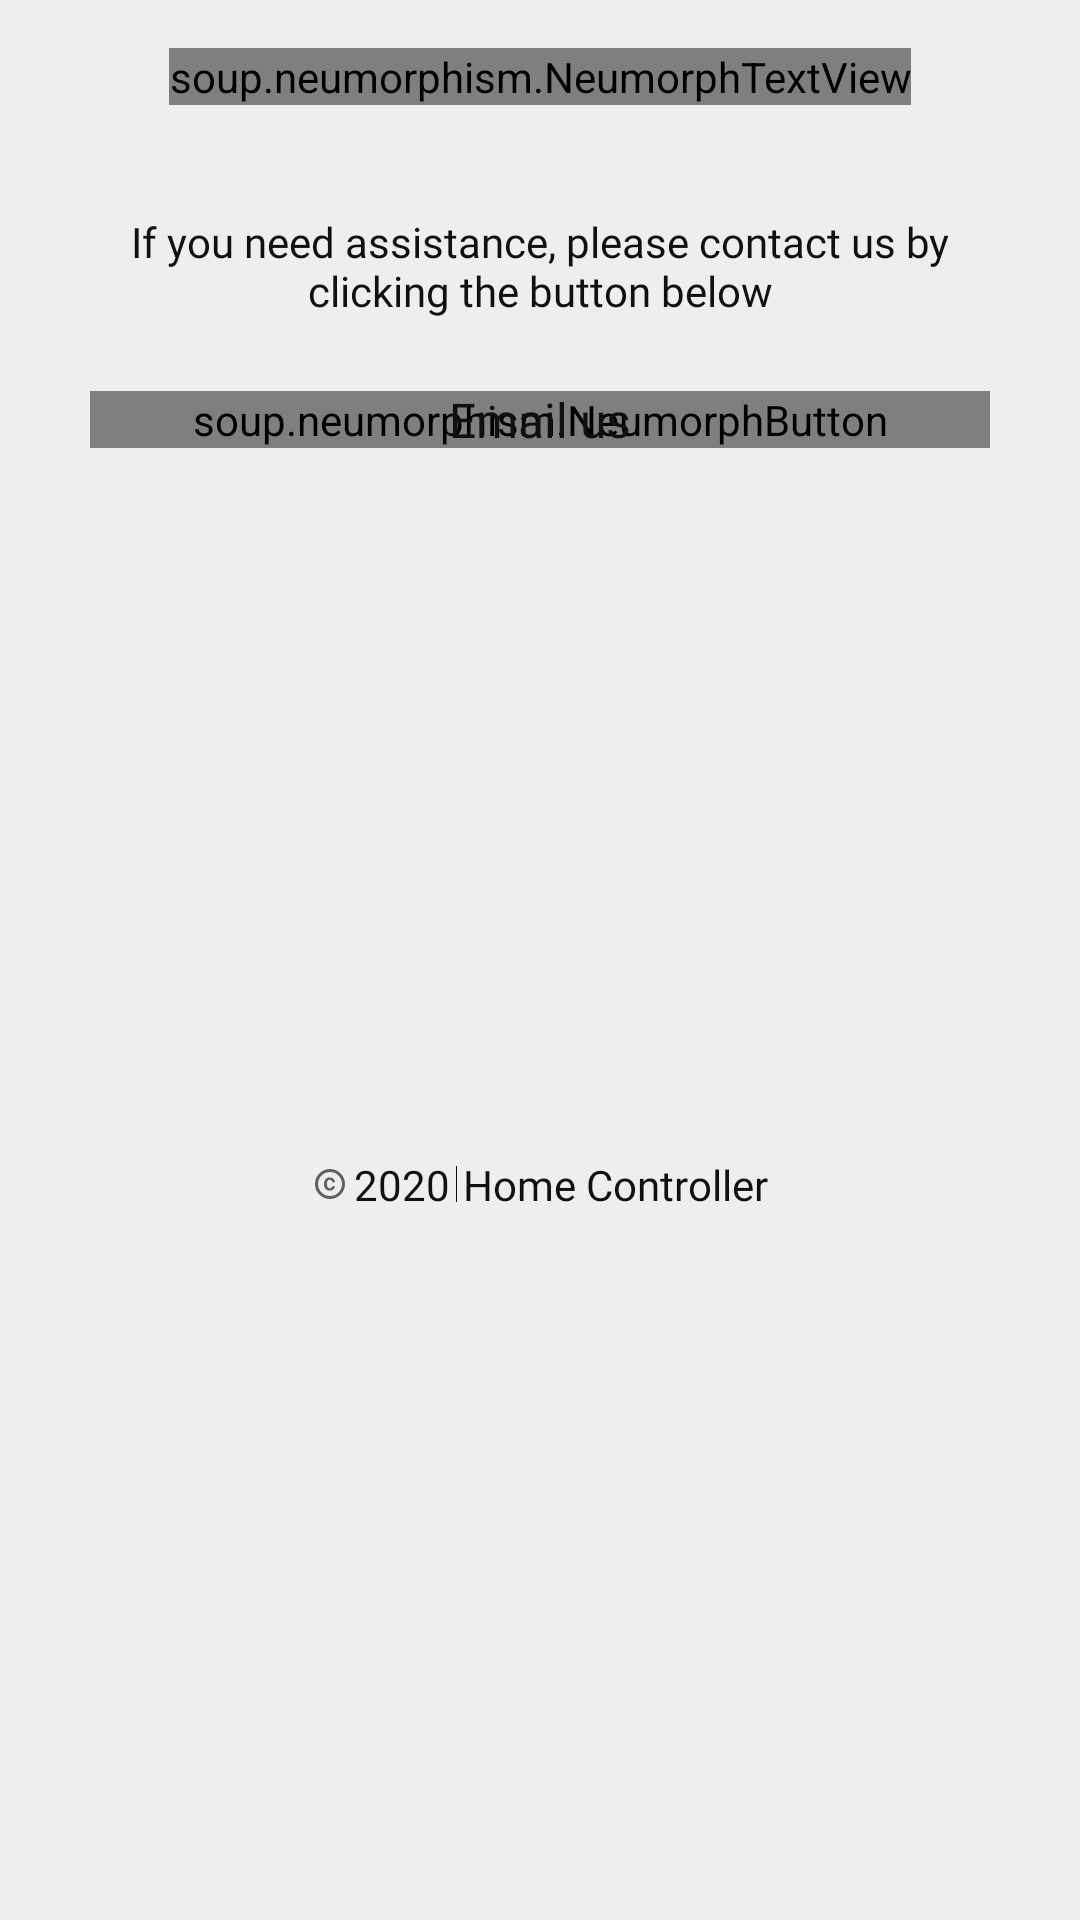

Where to tap for icons on this 1080px x 1920px app screen, as [x,y]:
copyright: [330,1184]
